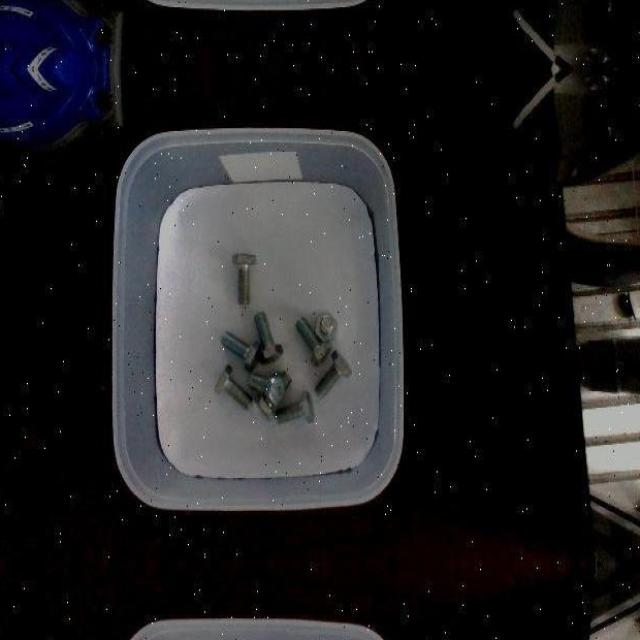screw: (314, 348, 352, 399), (296, 316, 332, 367), (214, 364, 252, 410), (220, 329, 261, 371), (254, 311, 282, 364), (276, 389, 314, 424), (233, 252, 258, 304), (249, 372, 285, 406), (315, 312, 337, 342)
